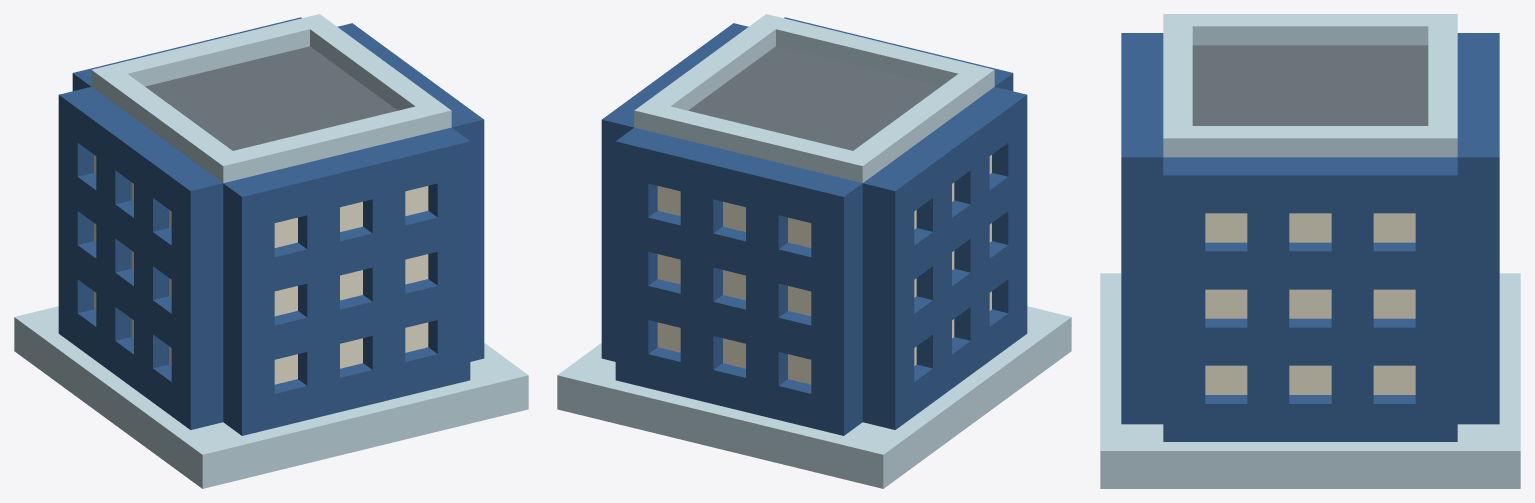
Rendered from Building_1_Base (Blue).obj.
The picture shows the model from 3 angles, left to right: view 1: azimuth 30°, elevation 25°; view 2: azimuth 150°, elevation 25°; view 3: azimuth 270°, elevation 25°; orthographic projection. The views are drawn at different scales.
Visible parts, largest first — view 1: Building_1_Base_(Blue); view 2: Building_1_Base_(Blue); view 3: Building_1_Base_(Blue).
Boxes of the visible parts, left/top/right/bottom form: Building_1_Base_(Blue): left=14, top=14, right=528, bottom=488; Building_1_Base_(Blue): left=557, top=14, right=1071, bottom=488; Building_1_Base_(Blue): left=1100, top=14, right=1520, bottom=488.
Size of the model in its own units: 2 by 1.7 by 2.
